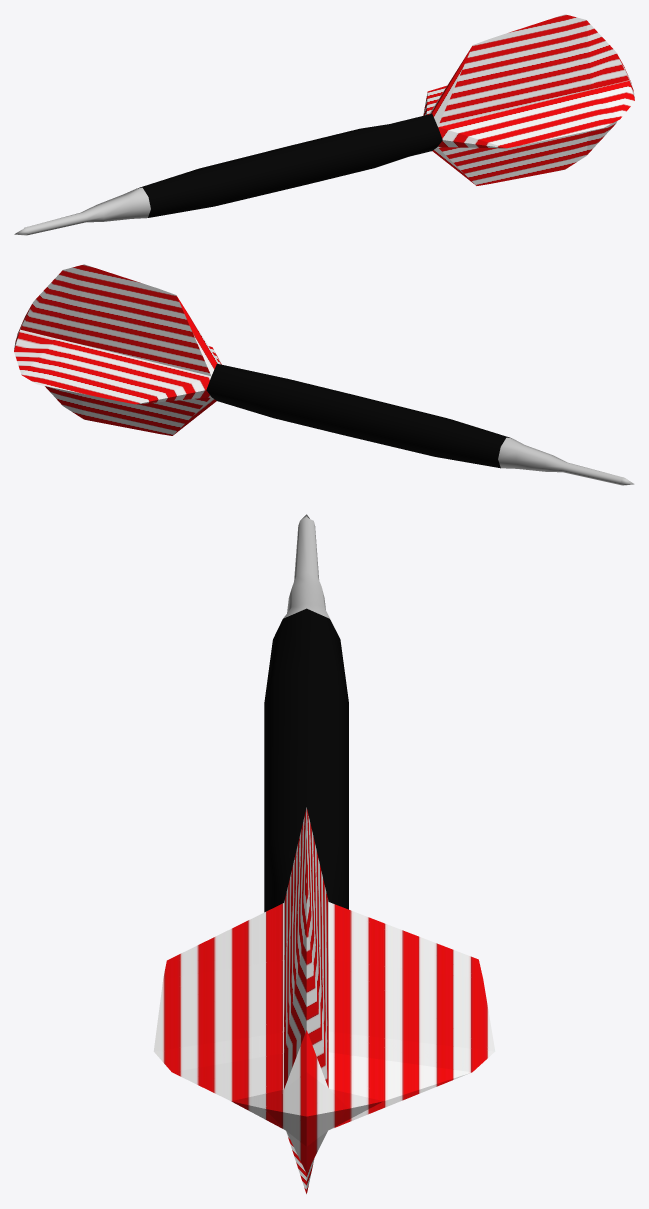
Rendered from Dart.fbx.
3 renders of one model, top to bottom at view 1: azimuth 30°, elevation 25°; view 2: azimuth 150°, elevation 25°; view 3: azimuth 270°, elevation 25°, orthographic. The views are drawn at different scales.
Visible parts, largest first — view 1: pCube1; view 2: pCube1; view 3: pCube1.
Boxes of the visible parts, x1,y1,x2,y2 form: pCube1: (14, 14, 634, 235); pCube1: (14, 264, 634, 485); pCube1: (153, 514, 495, 1194).
Size of the model in its own units: 68.02 by 16.35 by 16.3.
